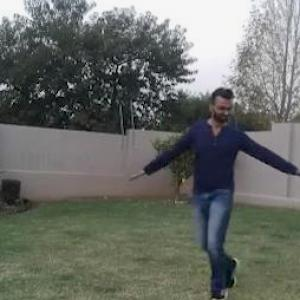land: (133, 97, 299, 283)
